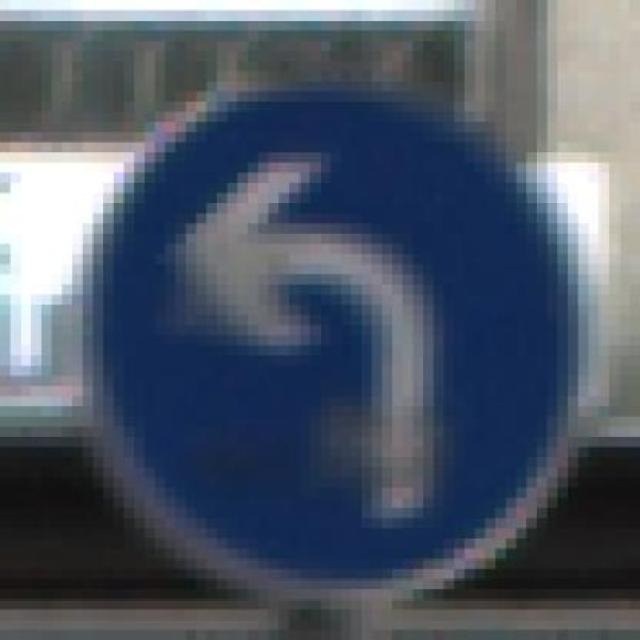Turn left ahead: (71, 80, 608, 608)
